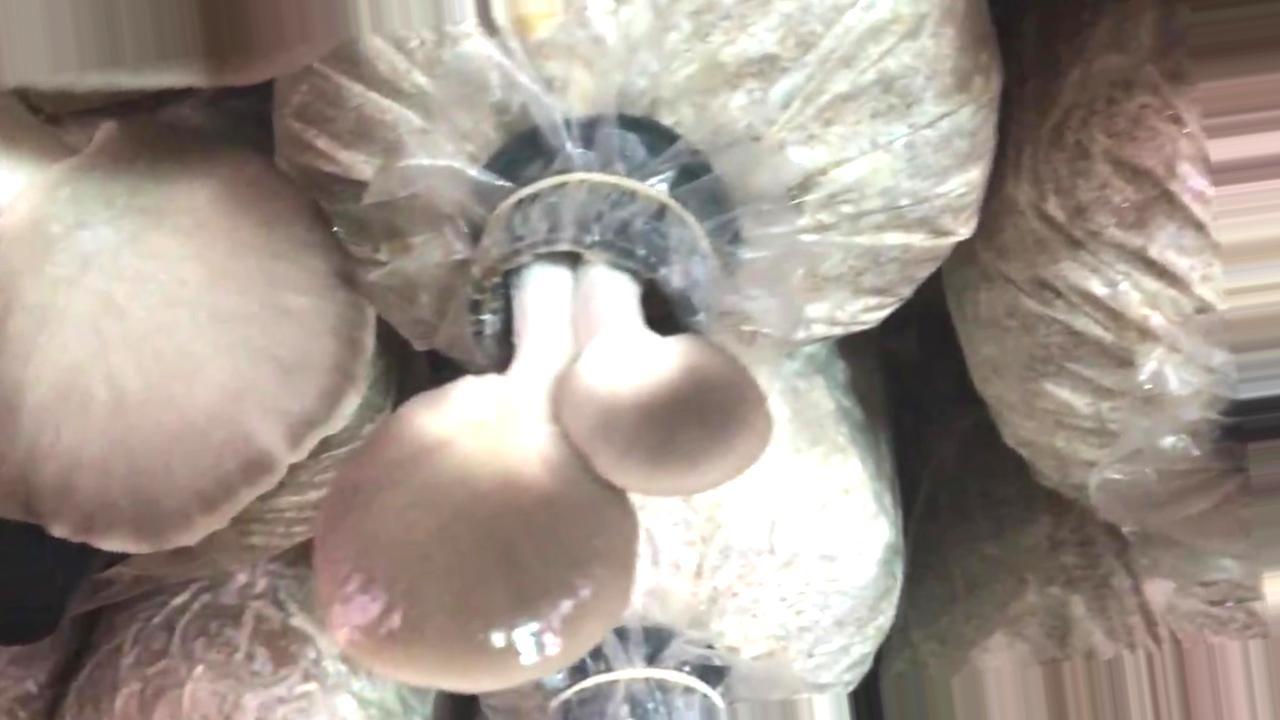nam: (316, 120, 777, 692), (1, 98, 373, 553)
